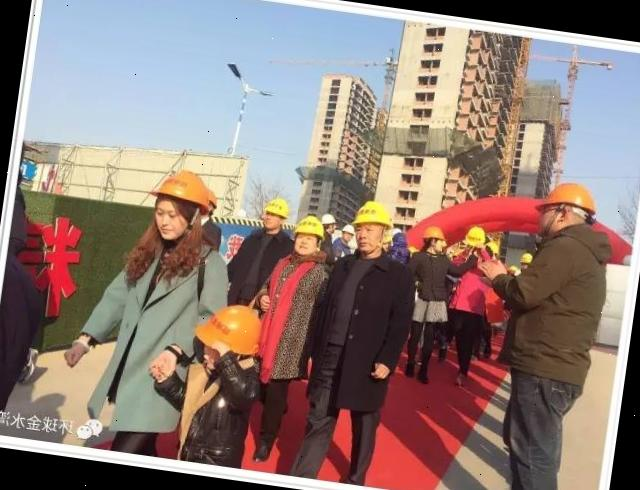helmet: (188, 300, 268, 360), (147, 166, 210, 208), (539, 178, 601, 218), (348, 199, 394, 232), (260, 196, 294, 220), (295, 214, 328, 238), (462, 224, 486, 248), (421, 224, 446, 241), (318, 212, 338, 226), (519, 250, 535, 264)
no_wear: (98, 238, 214, 382), (310, 253, 416, 410), (506, 226, 606, 387), (256, 247, 328, 374), (176, 358, 259, 462), (406, 250, 454, 317)
